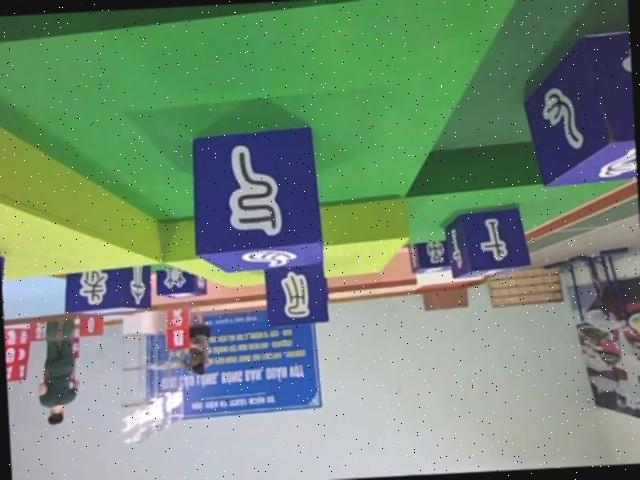R2 Fake Blue: (190, 126, 324, 274), (264, 260, 329, 329), (65, 265, 152, 316)
R2 Real Blue: (520, 31, 638, 187), (445, 205, 533, 280), (156, 266, 208, 300), (409, 240, 453, 275)
